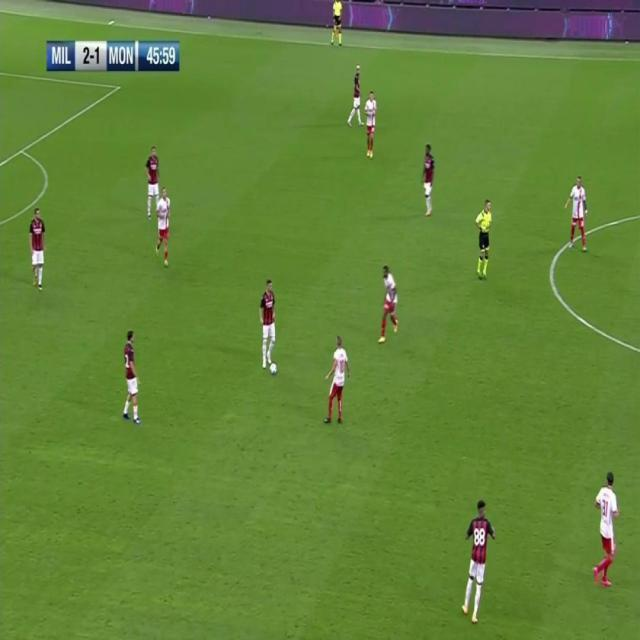ball: (269, 361, 278, 376)
player: (461, 493, 498, 626), (591, 470, 620, 592), (323, 333, 351, 427), (121, 328, 143, 426), (565, 171, 590, 253), (377, 263, 402, 343), (258, 275, 278, 371), (29, 207, 48, 293), (153, 187, 172, 271), (144, 144, 162, 222), (421, 142, 437, 219), (346, 63, 363, 127), (364, 88, 378, 161)
referee: (474, 195, 494, 281), (330, 0, 344, 48)
